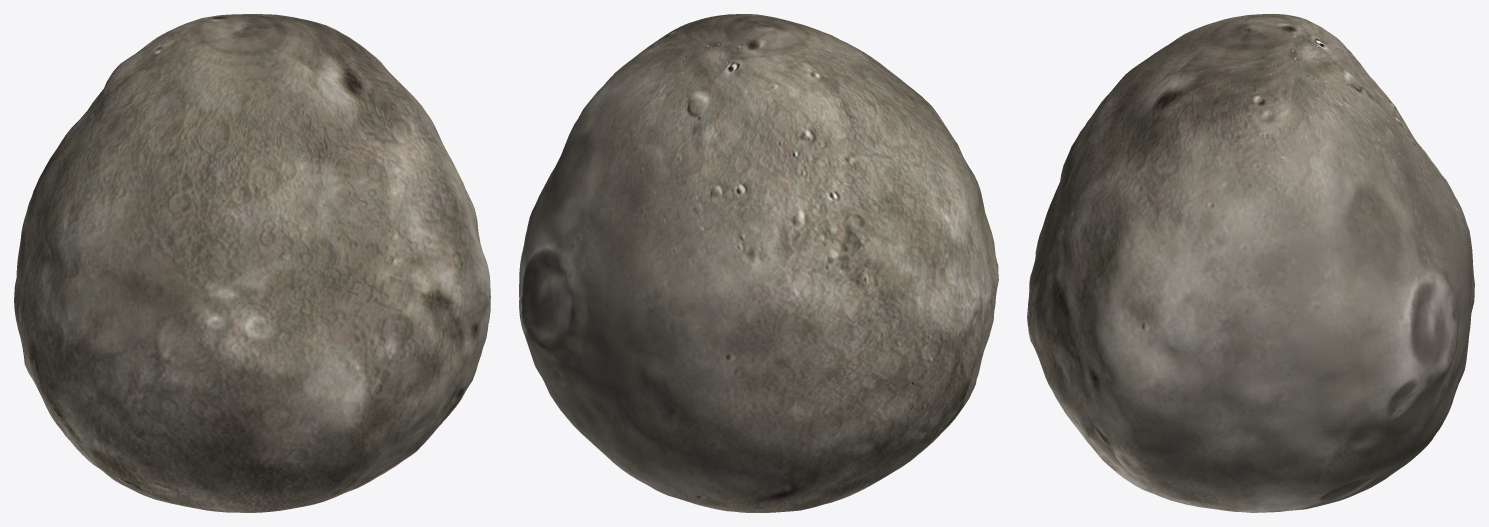
The model's file is dactyl.glb.
3 views of the same model, side by side, from view 1: azimuth 30°, elevation 25°; view 2: azimuth 150°, elevation 25°; view 3: azimuth 270°, elevation 25° (orthographic).
Visible parts, largest first — view 1: dactyl; view 2: dactyl; view 3: dactyl.
Boxes of the visible parts, <box> form: dactyl: <box>14,14,490,512</box>; dactyl: <box>519,14,998,512</box>; dactyl: <box>1027,14,1474,512</box>.
Size of the model in its own units: 155 by 168 by 147.
1 material, 1 textured.
